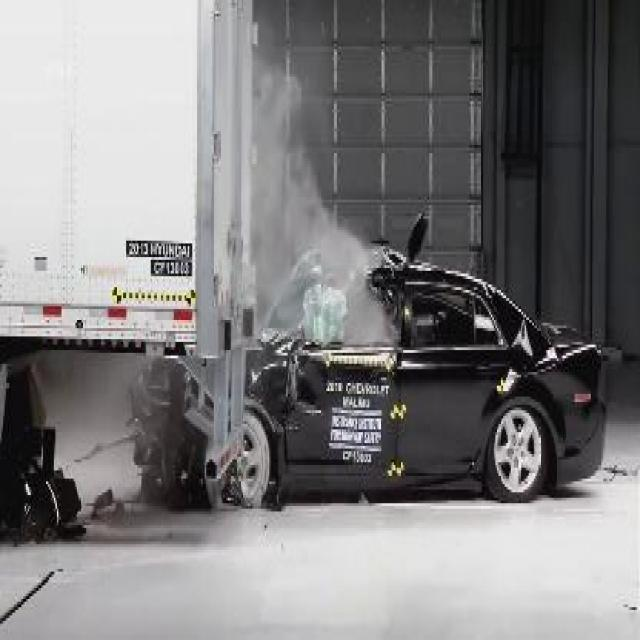accident: (2, 0, 616, 531)
